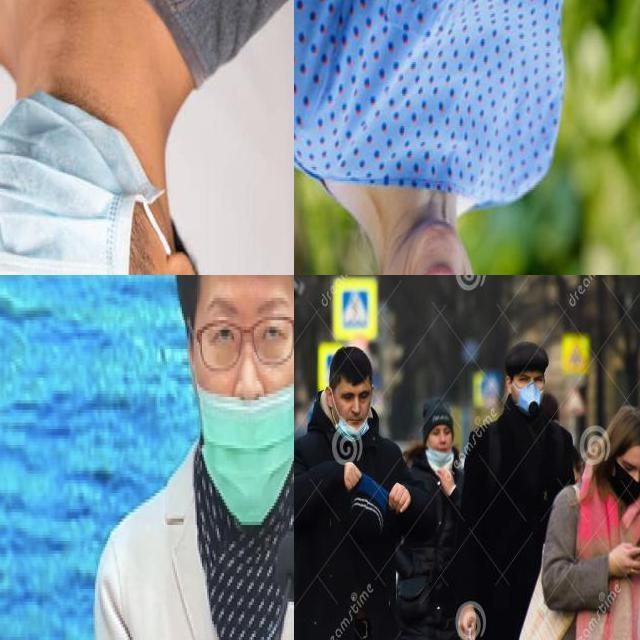hairnet: (205, 288, 293, 513), (337, 386, 369, 439), (429, 425, 452, 465)
no_apron: (607, 533, 639, 580), (387, 481, 413, 520)
no_gloves: (326, 343, 378, 397), (602, 403, 640, 461)
